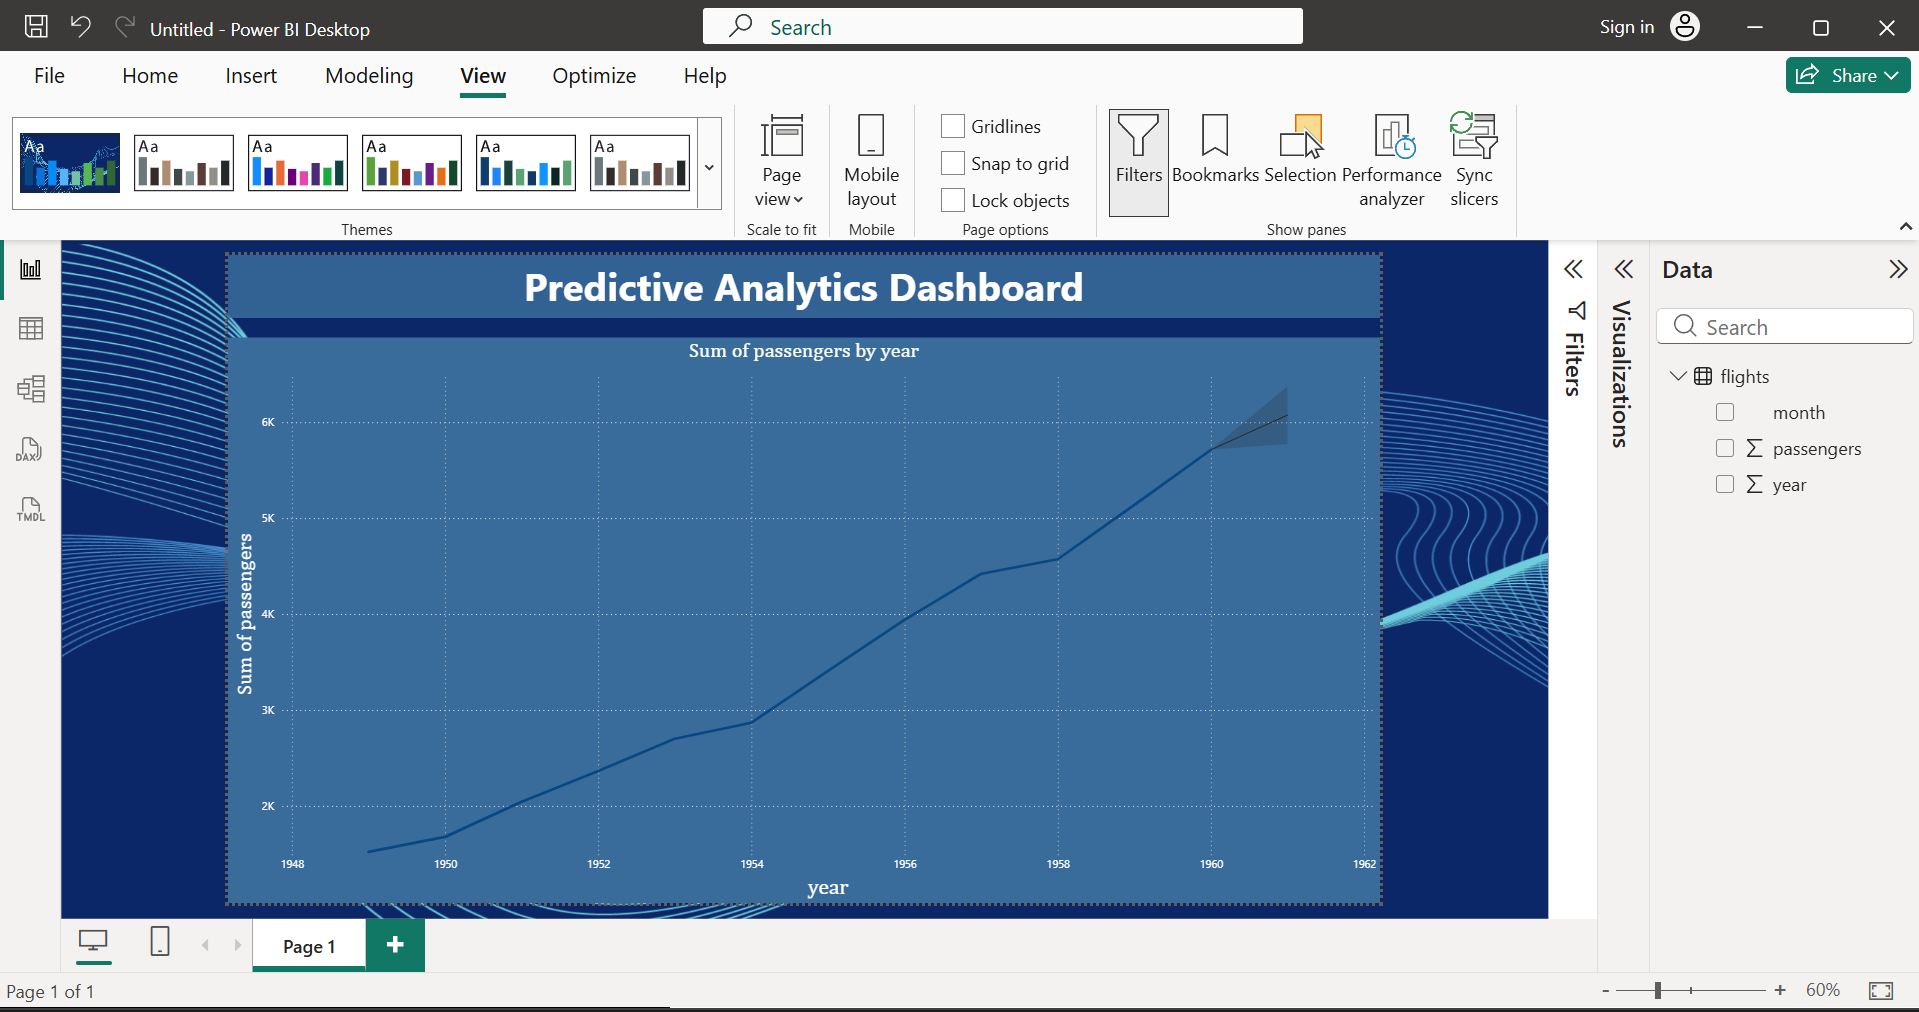

This screenshot's page, from the dashboard's own definition file:
{"tool":"powerbi","page":{"name":"Page 1","canvas":[1280,720],"ordinal":0},"visuals":[{"type":"lineChart","fields":{"Category":["flights.year"],"Y":["Sum(flights.passengers)"]},"box":[0,91.7,1280,628.3],"z":0},{"type":"textbox","box":[0,0,1280,70],"z":1}]}

Visuals, with their boxes on the page's 1280x720 design canvas (x1, y1, x2, y2). These are canvas units, not pixel positions in the 1919x1012 screenshot, which may show the page scaled, cropped or inside an application window:
lineChart - flights.year x Sum(flights.passengers): l=0, t=92, r=1280, b=720
textbox: l=0, t=0, r=1280, b=70
